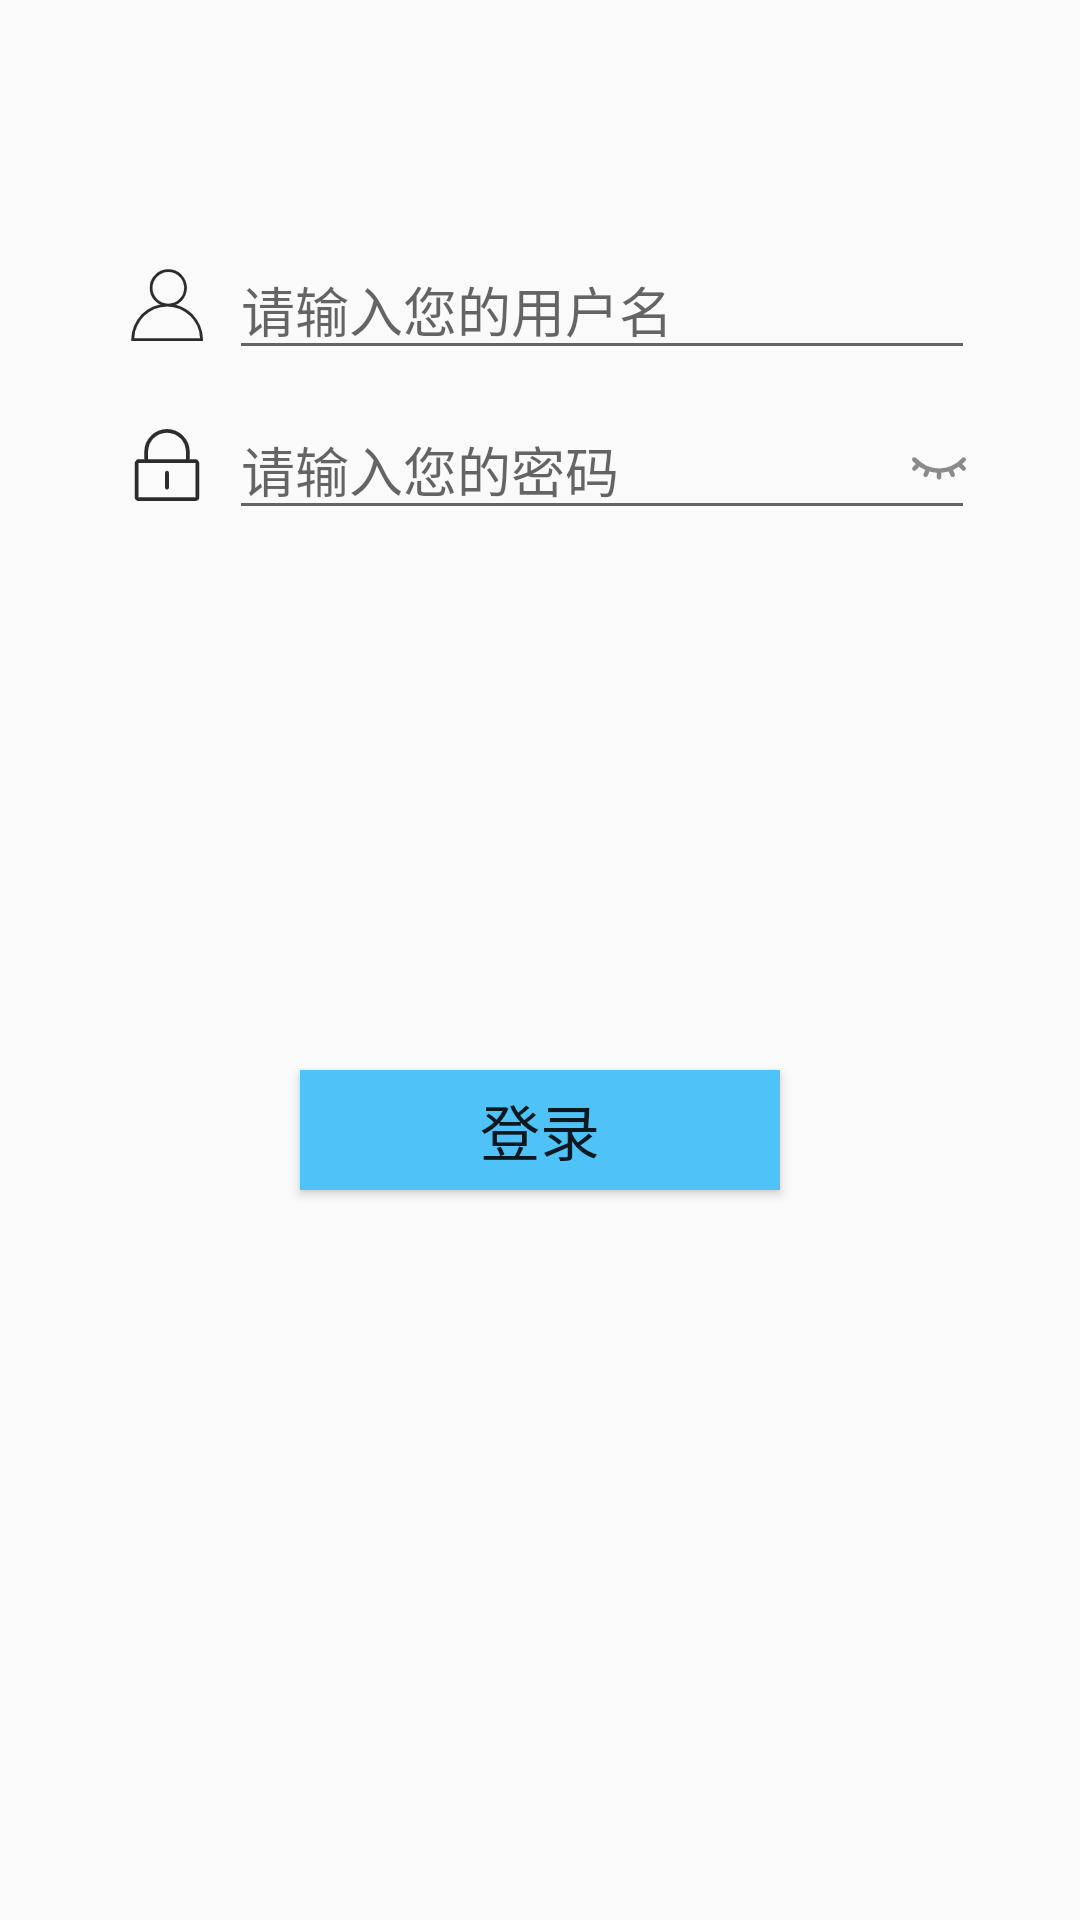

Icons on this 1080x1920 Android screen, each with the point to tap as point (x, y):
eye: point (939, 468)
user: point (167, 305)
